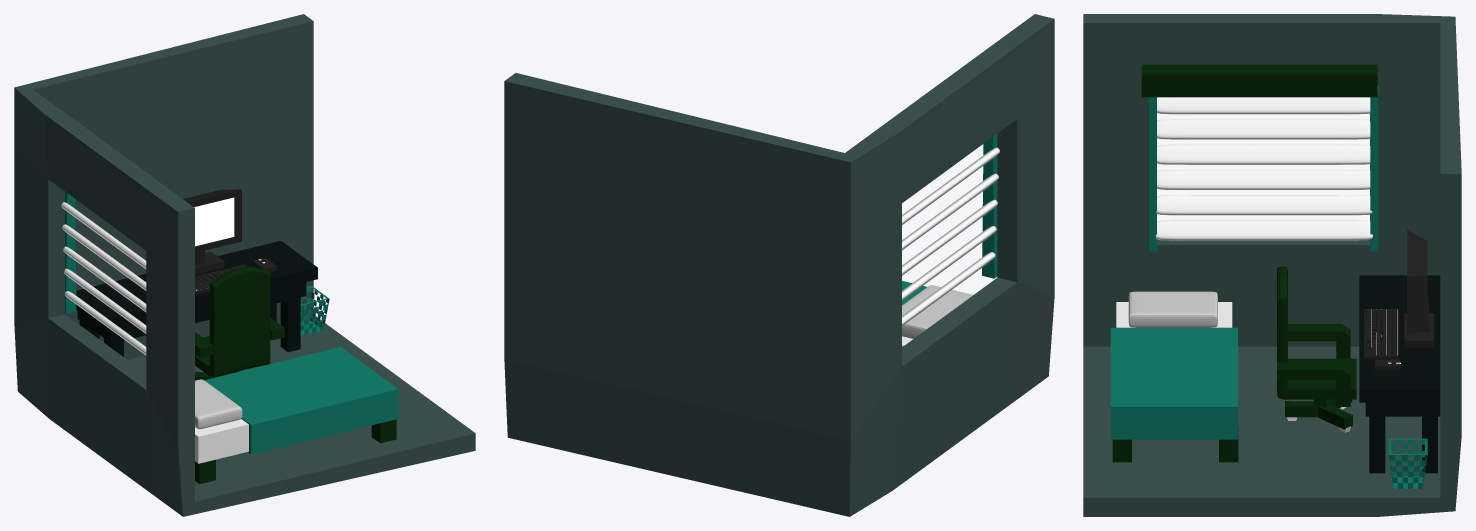
File: lowpolyRoom.glb
3 renders of one model, left to right at view 1: azimuth 30°, elevation 25°; view 2: azimuth 150°, elevation 25°; view 3: azimuth 270°, elevation 25°, orthographic. The views are drawn at different scales.
Visible parts, largest first — view 1: Cube_0, Cube.005_7, Cube.014_16, Cube.012_14, Cube.004_6, Cube.025_30, Cube.010_12, Cube.011_13, Cube.021_26, Cube.020_25, Cube.003_5, Cube.015_17; view 2: Cube_0, Cube.004_6, Cube.011_13, Cube.002_4; view 3: Cube_0, Cube.004_6, Cube.005_7, Cube.001_3, Cube.012_14, Cube.011_13, Cube.015_17, Cube.025_30, Cube.027_32, Cube.013_15, Cube.020_25, Cube.003_5 (+9 smaller).
Boxes of the visible parts, x1,y1,x2,y2 form: Cube_0: (14,14,475,516); Cube.005_7: (204,347,398,454); Cube.014_16: (209,266,270,377); Cube.012_14: (76,241,317,343); Cube.004_6: (61,202,146,355); Cube.025_30: (183,189,241,274); Cube.010_12: (195,419,248,463); Cube.011_13: (195,379,242,429); Cube.021_26: (280,297,300,352); Cube.020_25: (300,286,329,335); Cube.003_5: (65,191,76,313); Cube.015_17: (195,317,284,357); Cube_0: (504,14,1054,516); Cube.004_6: (902,147,999,325); Cube.011_13: (902,285,972,338); Cube.002_4: (982,134,997,278); Cube_0: (1083,14,1461,516); Cube.004_6: (1155,97,1372,240); Cube.005_7: (1110,327,1237,439); Cube.001_3: (1141,64,1377,97); Cube.012_14: (1359,275,1440,416); Cube.011_13: (1128,291,1217,327); Cube.015_17: (1277,324,1350,406); Cube.025_30: (1404,230,1434,347); Cube.027_32: (1364,308,1398,359); Cube.013_15: (1283,358,1356,399); Cube.020_25: (1388,438,1427,488); Cube.003_5: (1370,85,1378,251).
Bounding box in the file's own units: 5.25 × 5.25 × 5.25.
